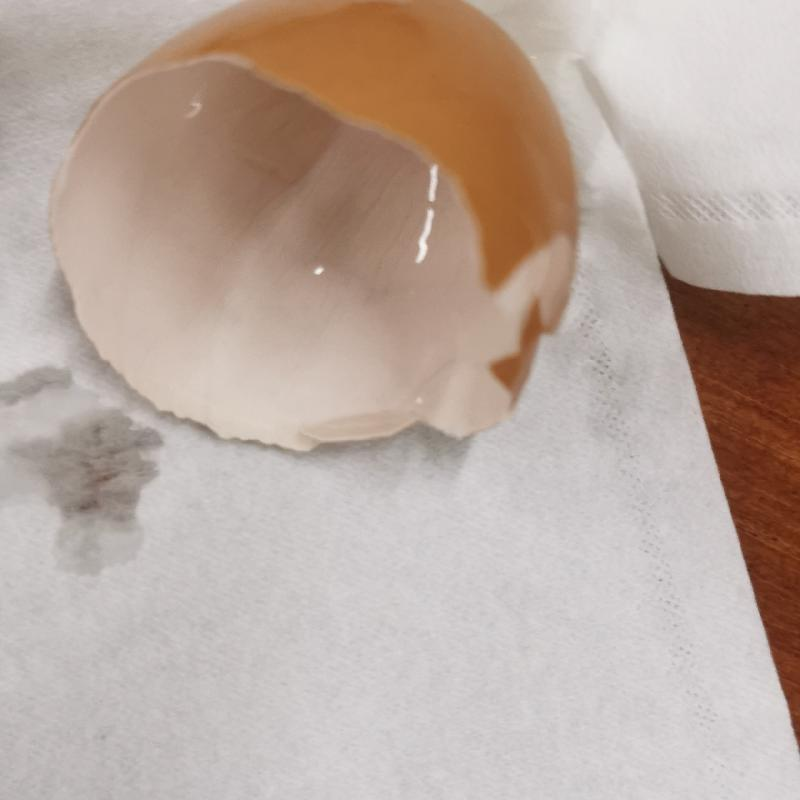eggshell: (48, 3, 582, 455)
